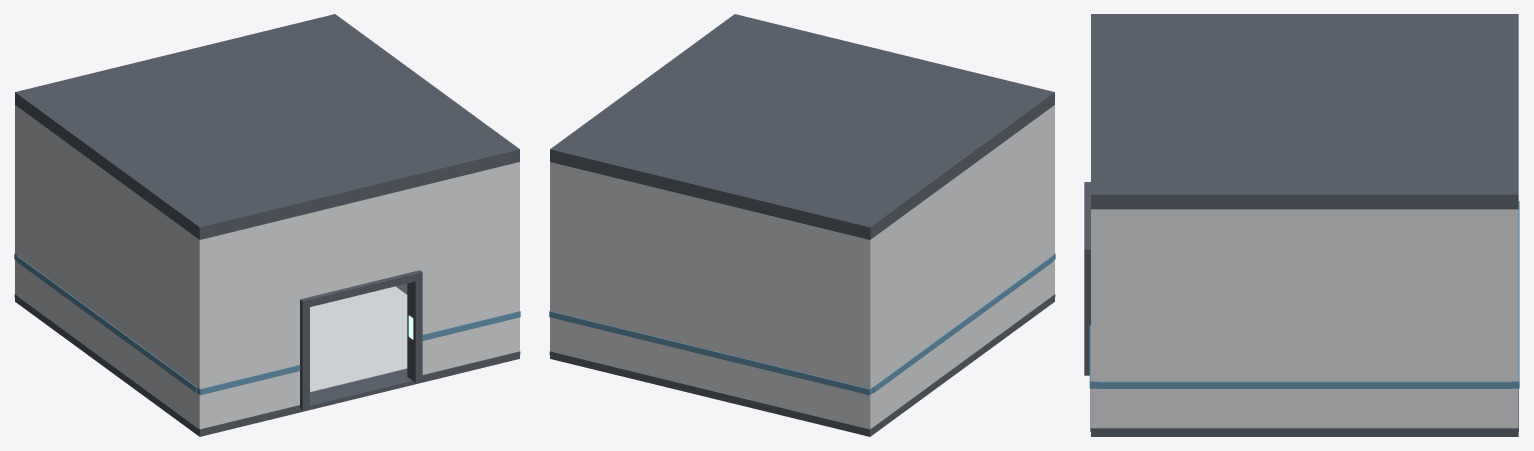
The model's file is spaceship-deck-kit-engineering-shell-a24dc348__12563.glb.
The picture shows the model from 3 angles, left to right: view 1: azimuth 30°, elevation 25°; view 2: azimuth 150°, elevation 25°; view 3: azimuth 270°, elevation 25°; orthographic projection. The views are drawn at different scales.
Parts seen in each view (by area): view 1: engineering-shell; view 2: engineering-shell; view 3: engineering-shell.
Part boxes in pixels (x1=…): engineering-shell: x1=14, y1=14, x2=520, y2=436; engineering-shell: x1=549, y1=14, x2=1055, y2=436; engineering-shell: x1=1084, y1=14, x2=1519, y2=436.
Bounding box in the file's own units: 8.04 × 5 × 8.14.
